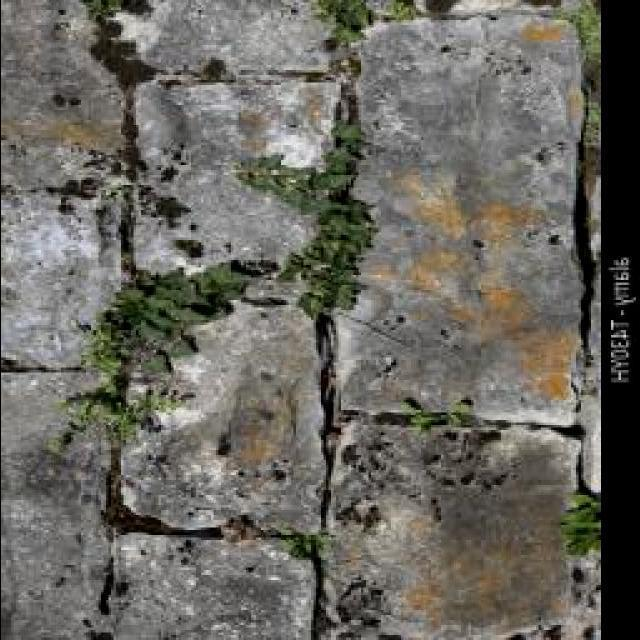crack: (8, 4, 606, 640)
vegetation: (52, 265, 261, 454), (239, 125, 379, 318)
